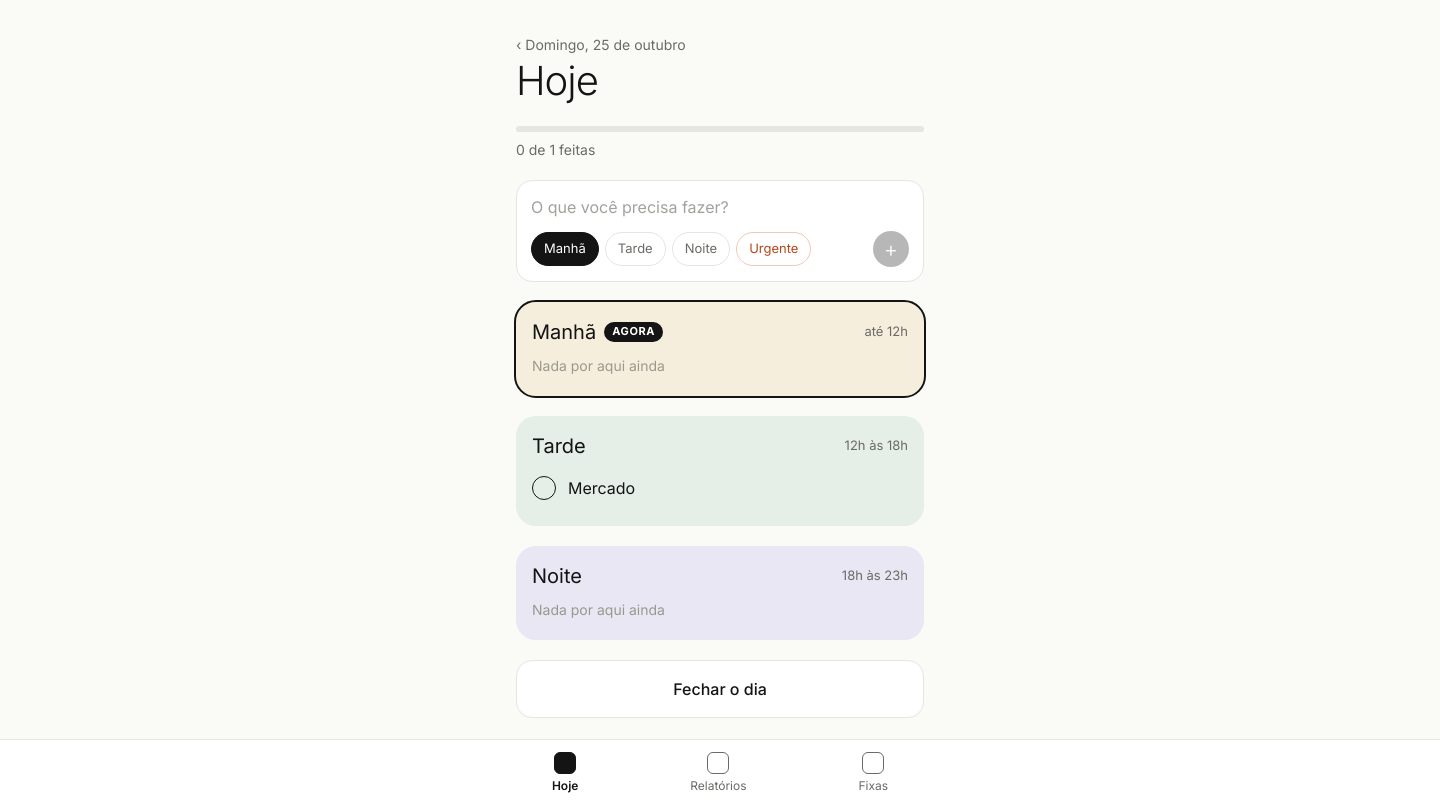
Scenario: J2 e J3: planejar e fazer › levar para amanhã move e avisa para onde foi
The width and height of the screenshot is (1440, 810).
Click the button "Mercado" at (602,488), box [568,476,908,500]
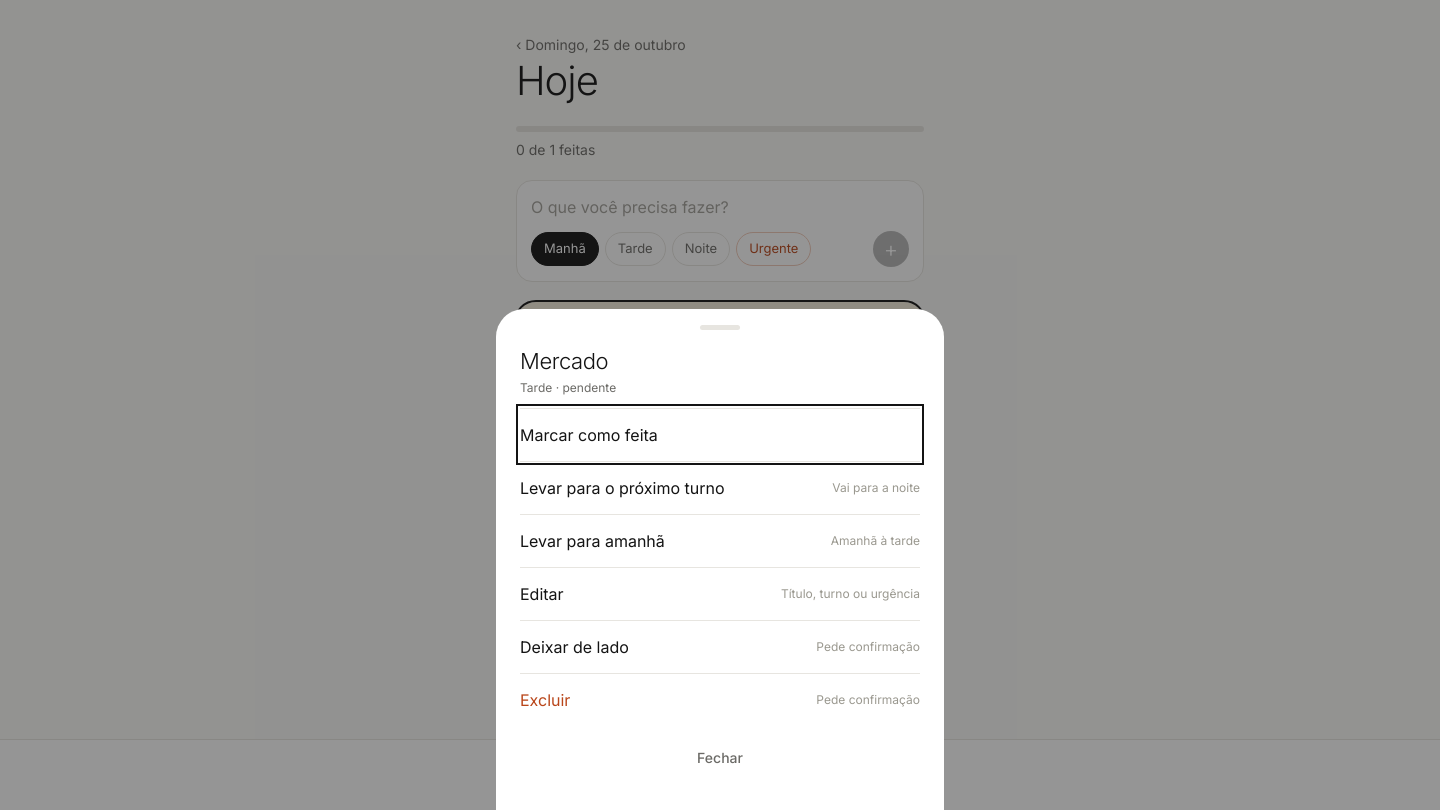
Click the button "Levar para amanhã Amanhã à tarde" at (592,541), box [520,514,920,567]
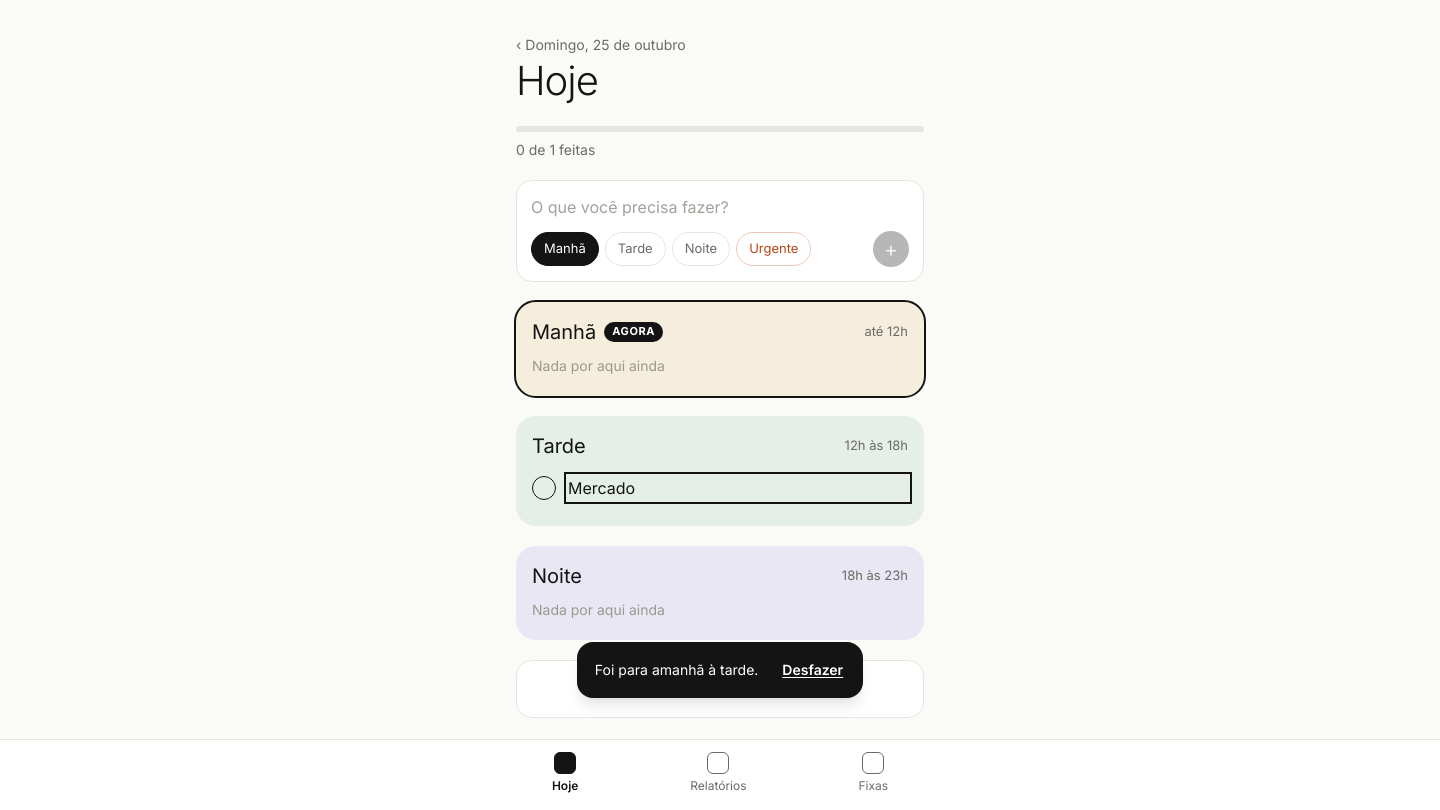
Expected: the text "Foi para amanhã à tarde." is shown, [595,660,758,680]
